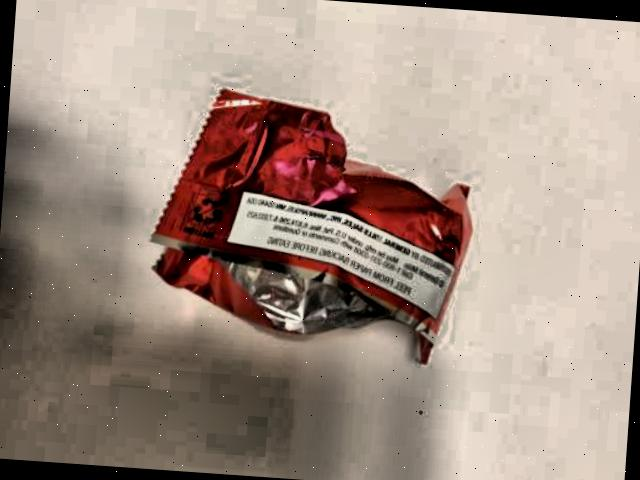Plastic: (92, 52, 512, 408)
